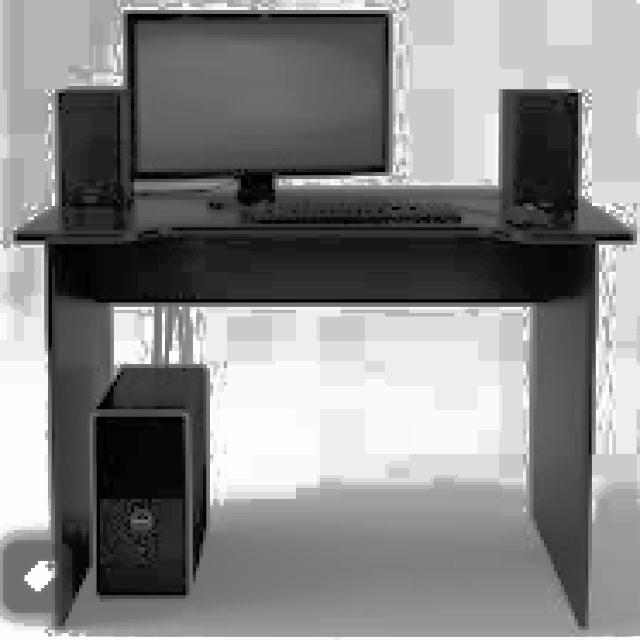table: (10, 186, 633, 626)
